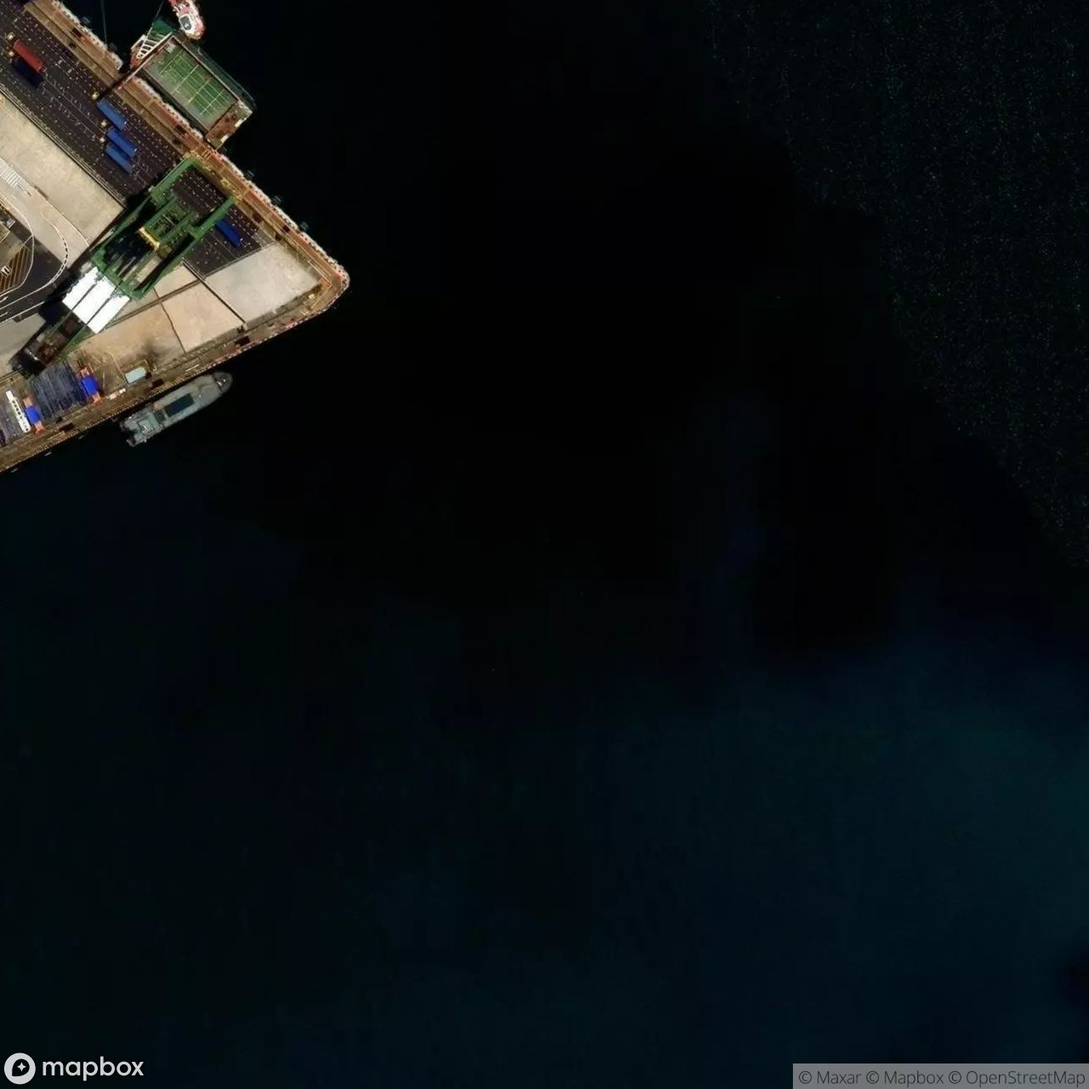Ship: (84, 426, 267, 476)
